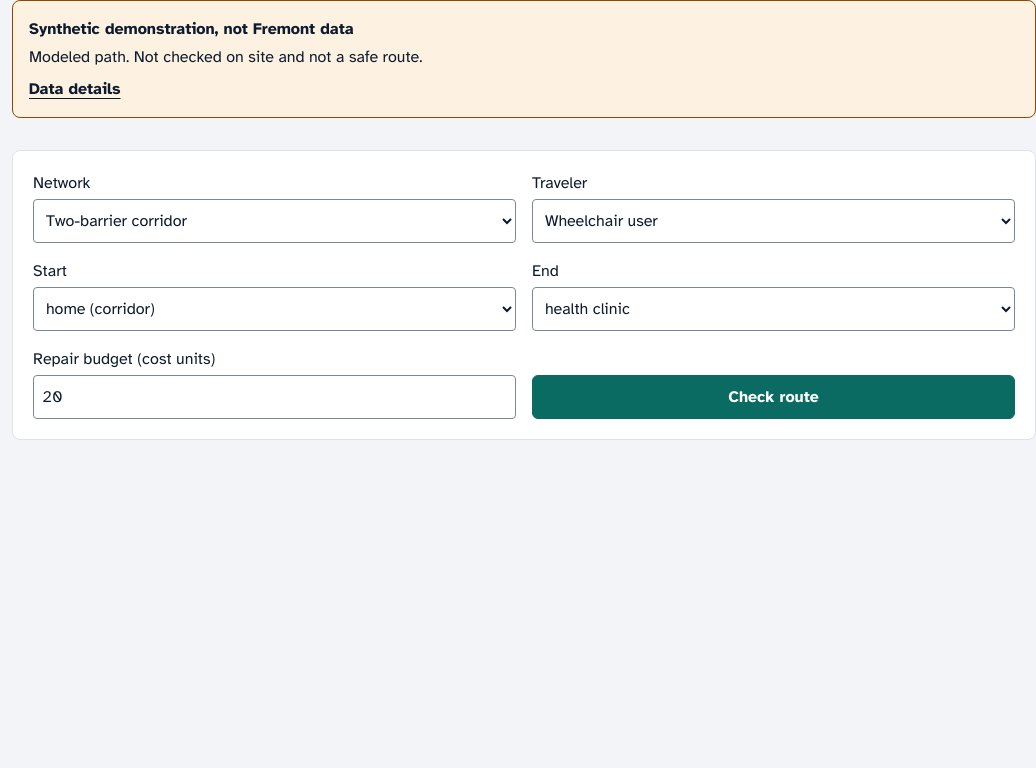
Scenario: clears the shown route when the start changes
Click the button "Check route". click: (774, 397)
box: left=532, top=375, right=1015, bottom=419
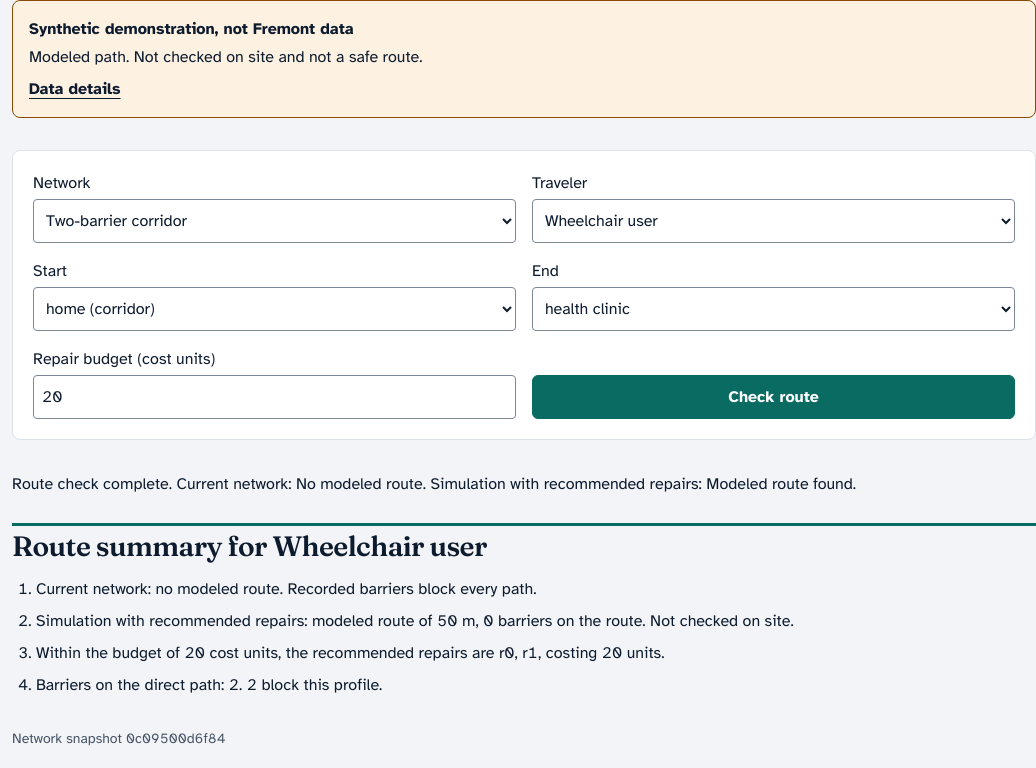
Result: the heading "Route summary for Wheelchair user" is shown at left=12, top=529, right=487, bottom=563
Select "home (corridor)" in the dropdown labelled "Start". click: (274, 309)
box: left=33, top=287, right=516, bottom=331
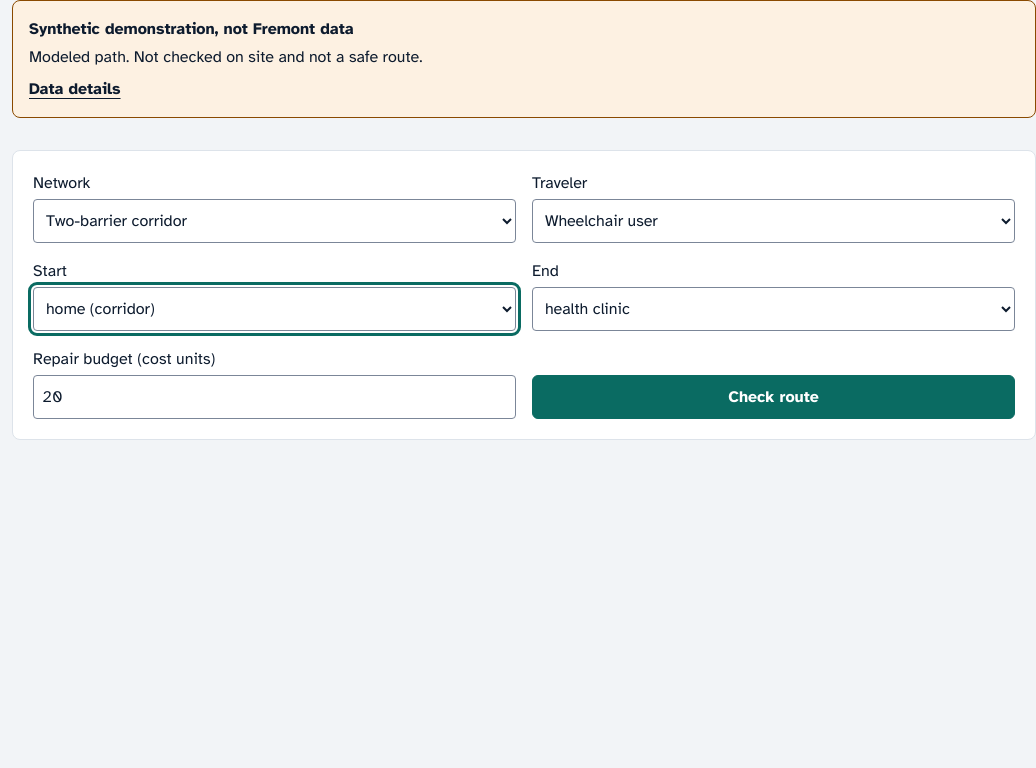
Result: the heading "Route summary" is gone
